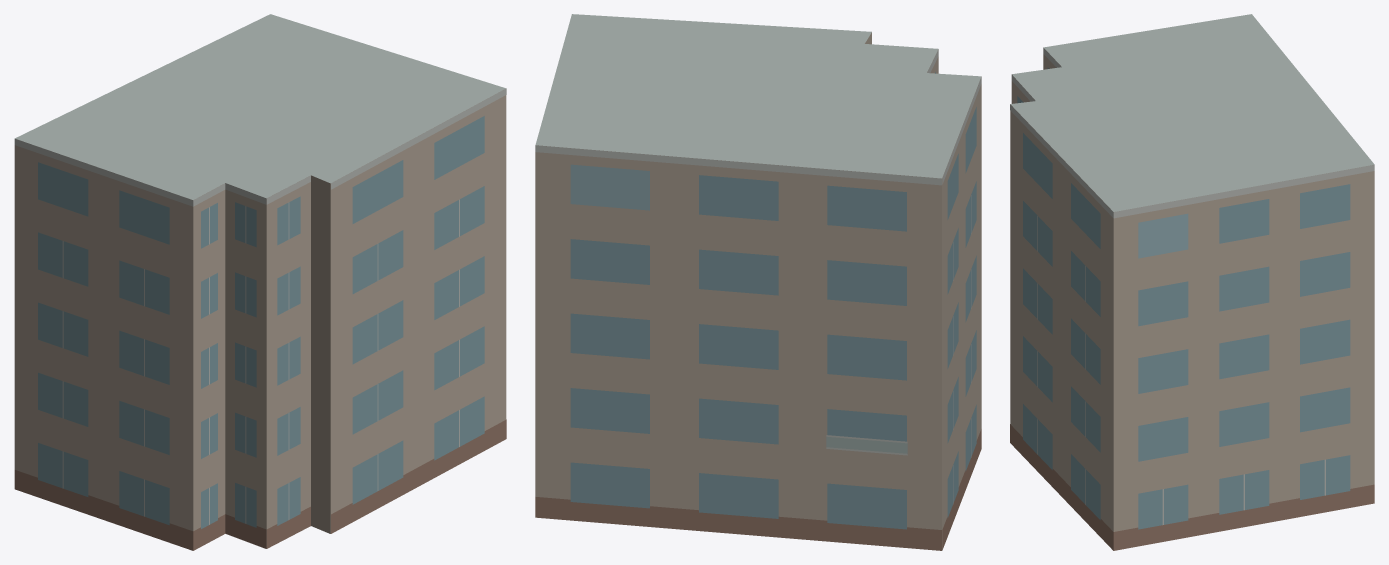
The model's file is survey-upis-33042985.glb.
3 renders of one model, left to right at view 1: azimuth 30°, elevation 25°; view 2: azimuth 150°, elevation 25°; view 3: azimuth 270°, elevation 25°, orthographic. The views are drawn at different scales.
Visible parts, largest first — view 1: survey-upis-33042985.tmp; view 2: survey-upis-33042985.tmp; view 3: survey-upis-33042985.tmp.
Part boxes in pixels (x1,y1,x2,y2): survey-upis-33042985.tmp: [14, 14, 506, 550]; survey-upis-33042985.tmp: [535, 14, 981, 550]; survey-upis-33042985.tmp: [1010, 14, 1374, 550].
Size of the model in its own units: 16.44 by 13.1 by 12.79.
